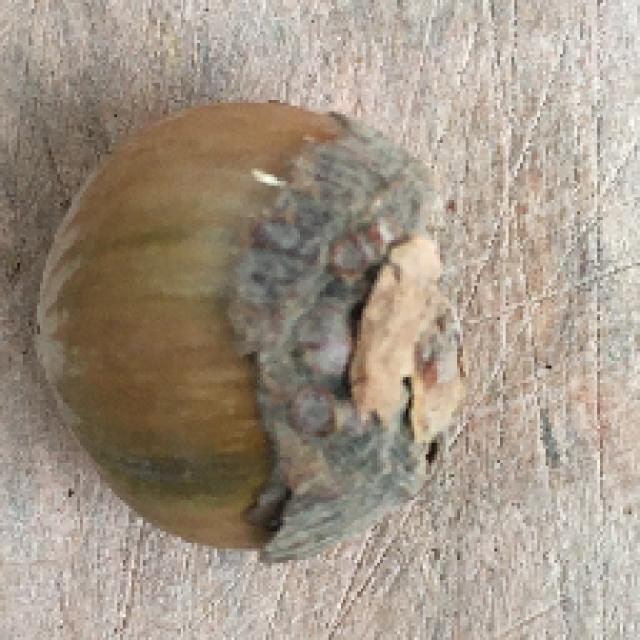damagedHazelnut: (31, 94, 488, 568)
